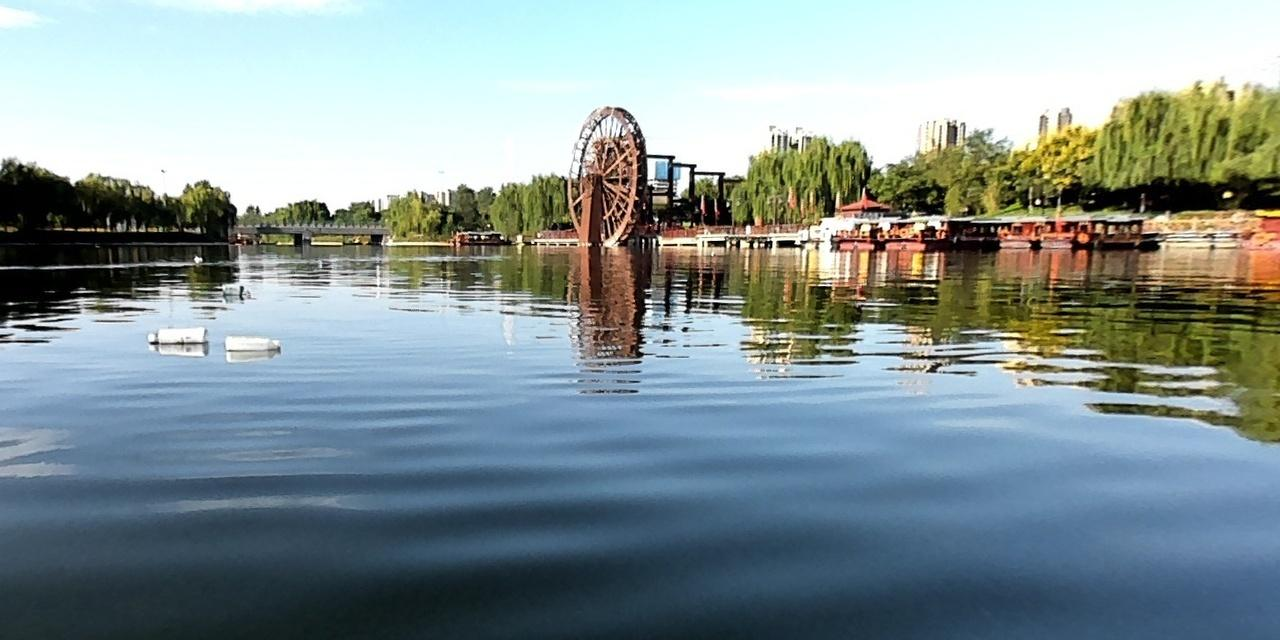bottle: (144, 322, 207, 345), (220, 330, 283, 353), (218, 282, 247, 295)
